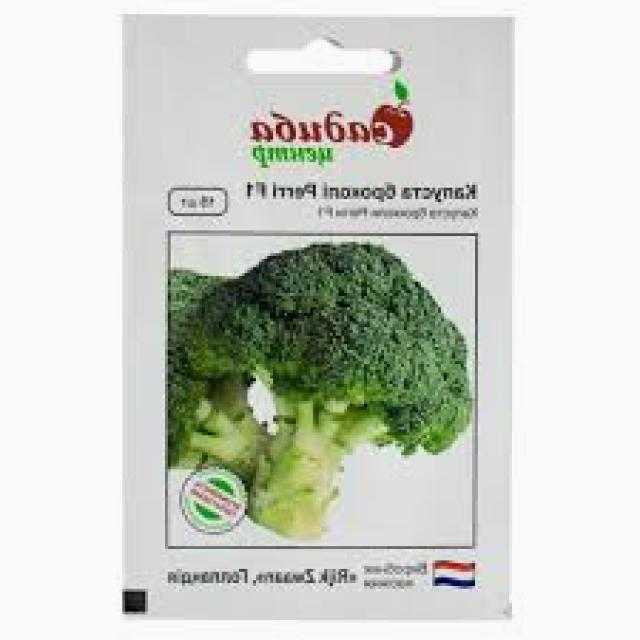broccoli: (148, 244, 474, 527)
